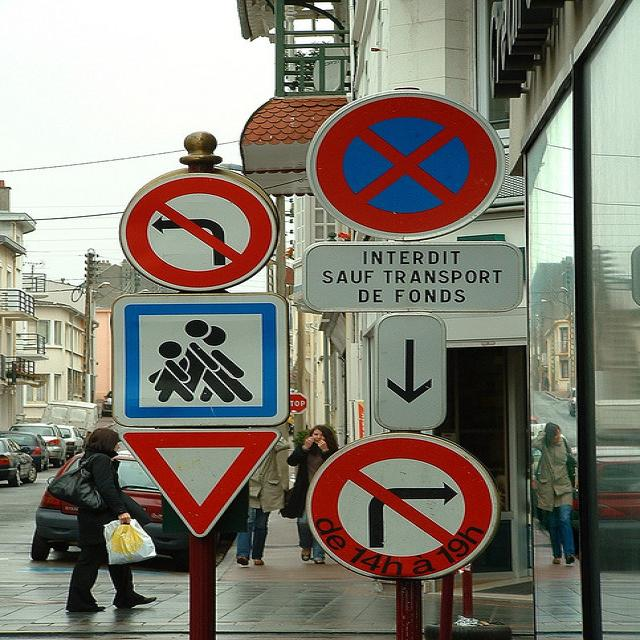Vehicle: (31, 452, 194, 574), (595, 444, 640, 570), (9, 422, 69, 467), (0, 430, 51, 470), (1, 438, 38, 487), (60, 424, 85, 456)
